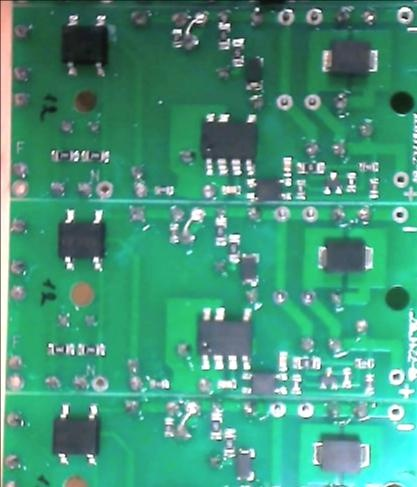chip-capacitor: (220, 183, 242, 196), (276, 349, 288, 372), (217, 377, 238, 390), (281, 155, 291, 176)
chip-resistor: (291, 355, 323, 371), (76, 342, 107, 358), (230, 37, 246, 68), (45, 341, 75, 357), (296, 160, 326, 176), (80, 148, 110, 164), (49, 147, 79, 163), (216, 20, 231, 51), (227, 232, 241, 264), (208, 412, 223, 441), (214, 216, 228, 246), (223, 427, 236, 458), (363, 372, 376, 396), (345, 170, 357, 195), (162, 416, 175, 439), (290, 373, 303, 396), (148, 377, 171, 390), (357, 161, 380, 174), (295, 178, 308, 201), (368, 177, 380, 200), (152, 184, 175, 196), (170, 26, 182, 49), (355, 356, 376, 369), (341, 366, 352, 389), (168, 222, 179, 244)
diode: (311, 437, 372, 474), (320, 39, 379, 77), (316, 237, 374, 274), (234, 447, 257, 483), (239, 251, 260, 287), (245, 55, 266, 91)
ic: (199, 110, 259, 179), (195, 304, 253, 371), (50, 400, 102, 467), (56, 206, 107, 272), (60, 12, 109, 77), (240, 370, 289, 396), (245, 176, 293, 202)
transistor: (322, 170, 344, 196), (319, 366, 340, 393)
